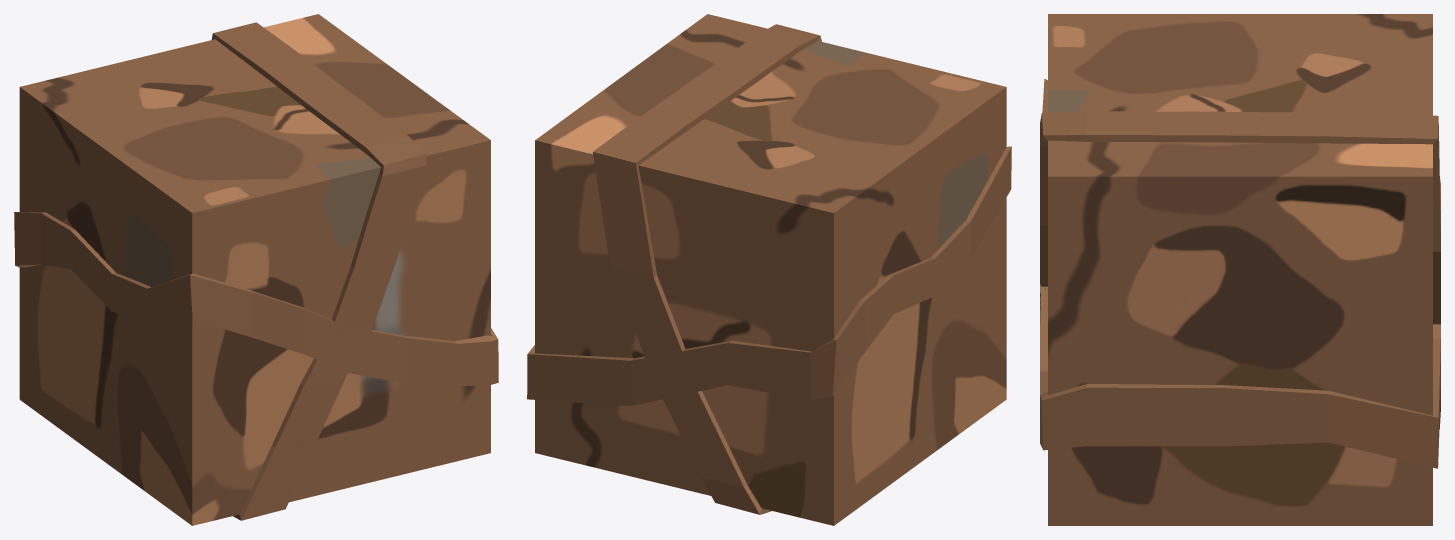
Rendered from pressedBox.fbx.
The picture shows the model from 3 angles, left to right: view 1: azimuth 30°, elevation 25°; view 2: azimuth 150°, elevation 25°; view 3: azimuth 270°, elevation 25°; orthographic projection. The views are drawn at different scales.
Parts seen in each view (by area): view 1: Cube, Plane, Plane.001; view 2: Cube, Plane, Plane.001; view 3: Cube, Plane.001, Plane.
Boxes of the visible parts, x1,y1,x2,y2 form: Cube: (19, 14, 490, 525); Plane: (211, 22, 426, 520); Plane.001: (14, 212, 498, 385); Cube: (535, 14, 1006, 525); Plane: (592, 24, 821, 514); Plane.001: (527, 146, 1011, 406); Cube: (1048, 14, 1432, 525); Plane.001: (1040, 78, 1440, 468); Plane: (1040, 111, 1440, 429).
Bounding box in the file's own units: 208 × 208 × 208.
1 material, 1 textured.
